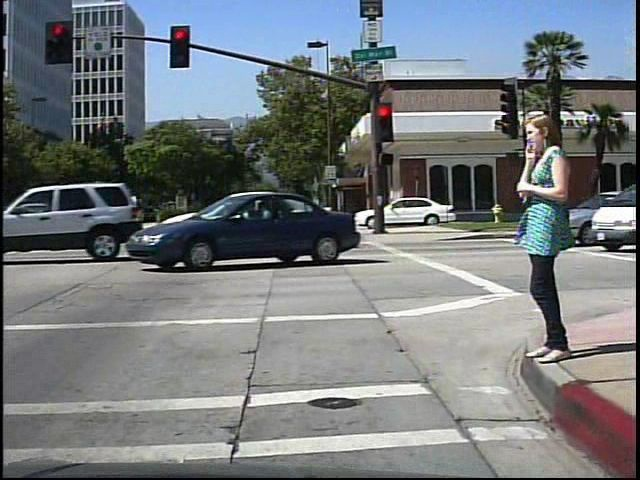person: (512, 104, 576, 373)
